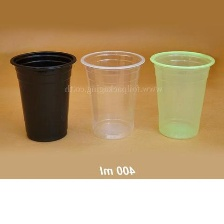glass: (148, 48, 217, 142)
